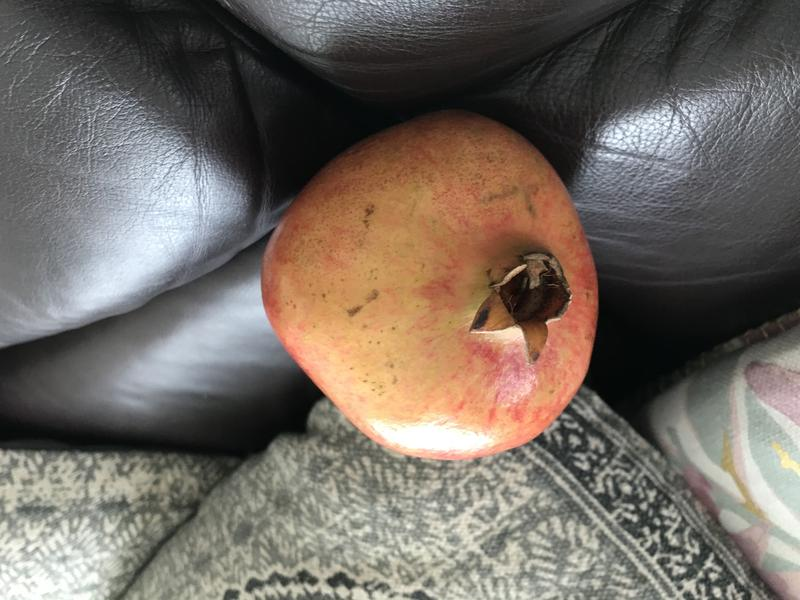pomegranate: (244, 95, 617, 485)
